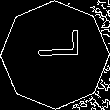L_W: (29, 39, 81, 71)
